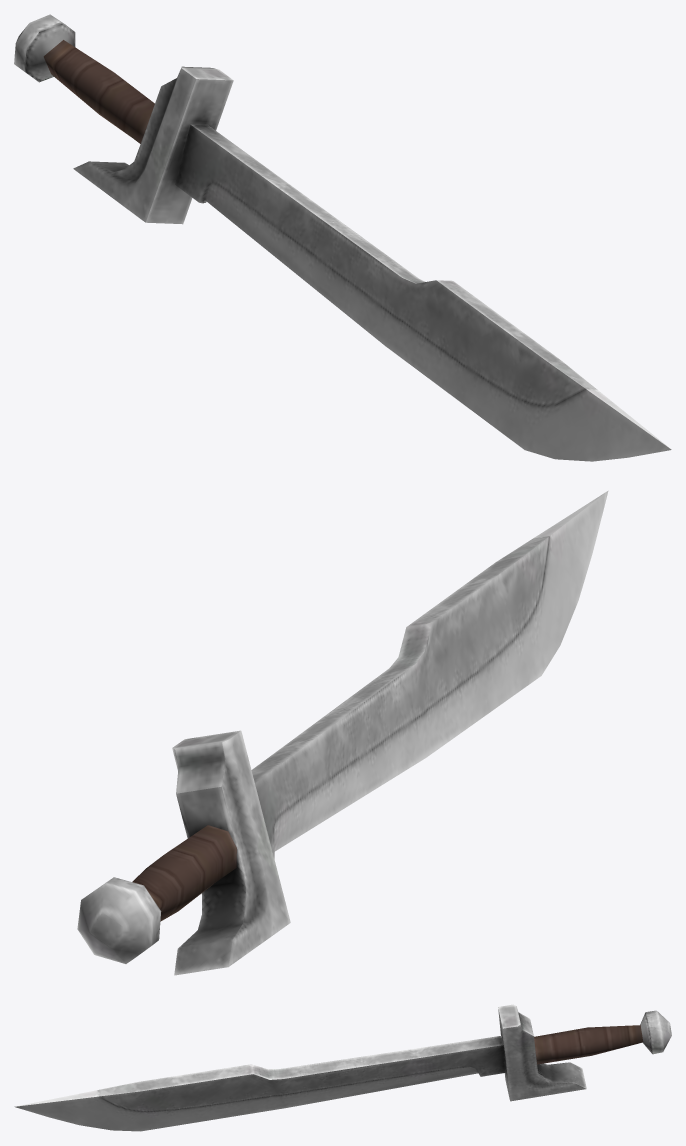
The model's file is weapon-bronzeweapons.glb.
3 views of the same model, one above another, from view 1: azimuth 30°, elevation 25°; view 2: azimuth 150°, elevation 25°; view 3: azimuth 270°, elevation 25° (orthographic). The views are drawn at different scales.
Size of the model in its own units: 0.191 by 0.2174 by 1.16.
1 material, 1 textured.
